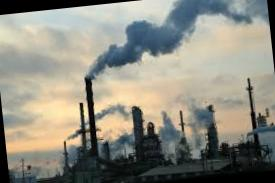Smoke: (75, 0, 272, 81), (58, 86, 215, 156)
